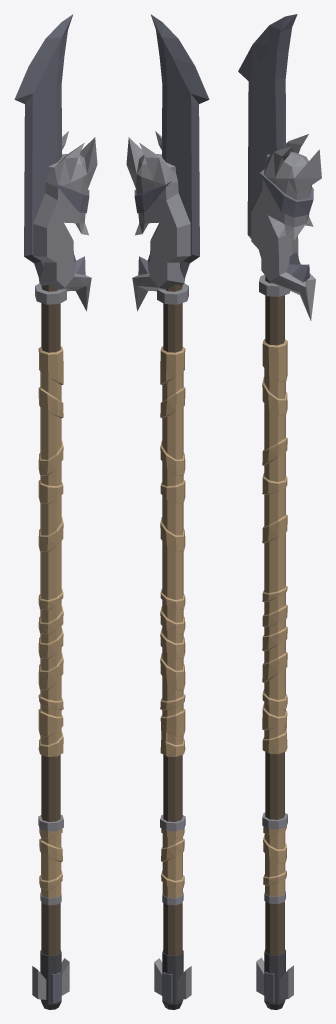
File: Lanca_A24.fbx
The picture shows the model from 3 angles, left to right: view 1: azimuth 30°, elevation 25°; view 2: azimuth 150°, elevation 25°; view 3: azimuth 330°, elevation 25°; orthographic projection.
Parts seen in each view (by area): view 1: polearm_24; view 2: polearm_24; view 3: polearm_24.
Boxes of the visible parts, x1,y1,x2,y2 form: polearm_24: [14, 14, 97, 1009]; polearm_24: [126, 14, 209, 1009]; polearm_24: [238, 14, 321, 1009].
Bounding box in the file's own units: 18.52 × 211 × 8.73.
